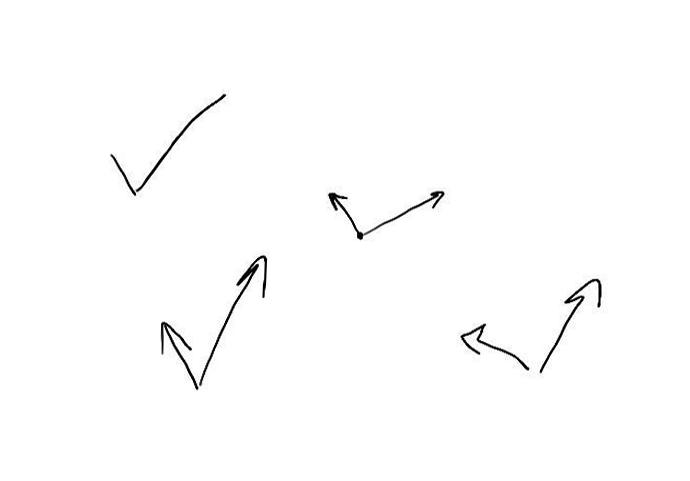arrow: (199, 252, 269, 383), (541, 277, 602, 369), (459, 319, 527, 372), (364, 192, 444, 232), (157, 321, 197, 388), (327, 192, 359, 232)
arrownohead: (137, 89, 228, 189), (111, 153, 135, 196)
